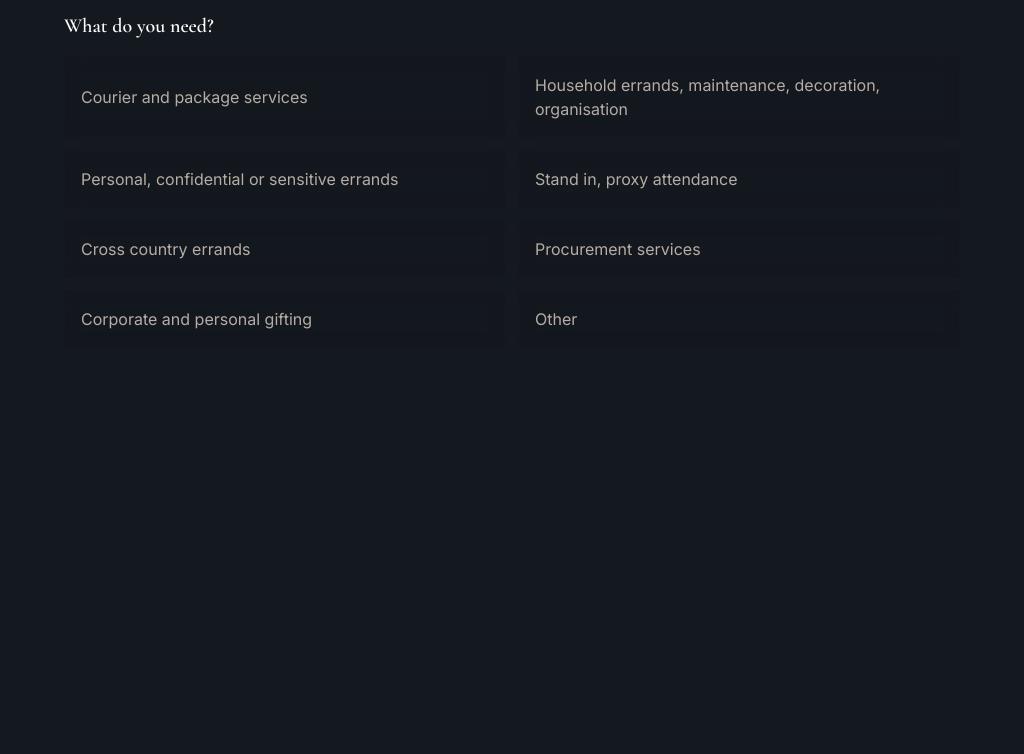
Test: BookingFlow › returns to service phase when Change is clicked
Click the button "Courier and package services".
click(285, 97)  # box [64,56,506,138]
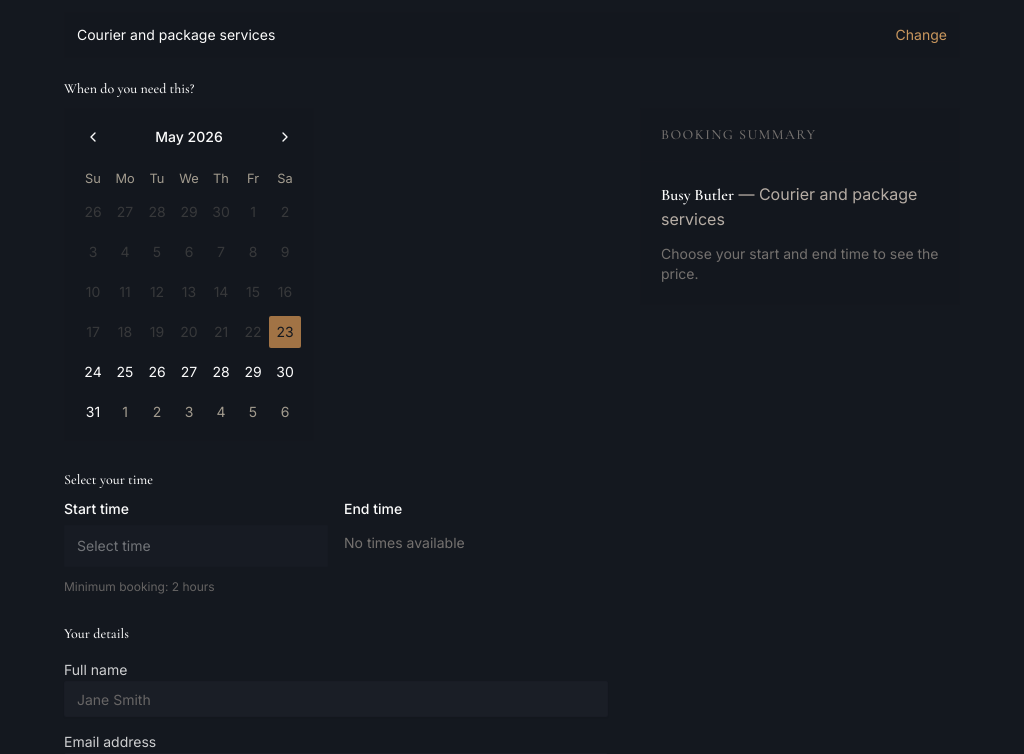
Click the button "Change".
click(921, 35)  # box [896,25,947,45]
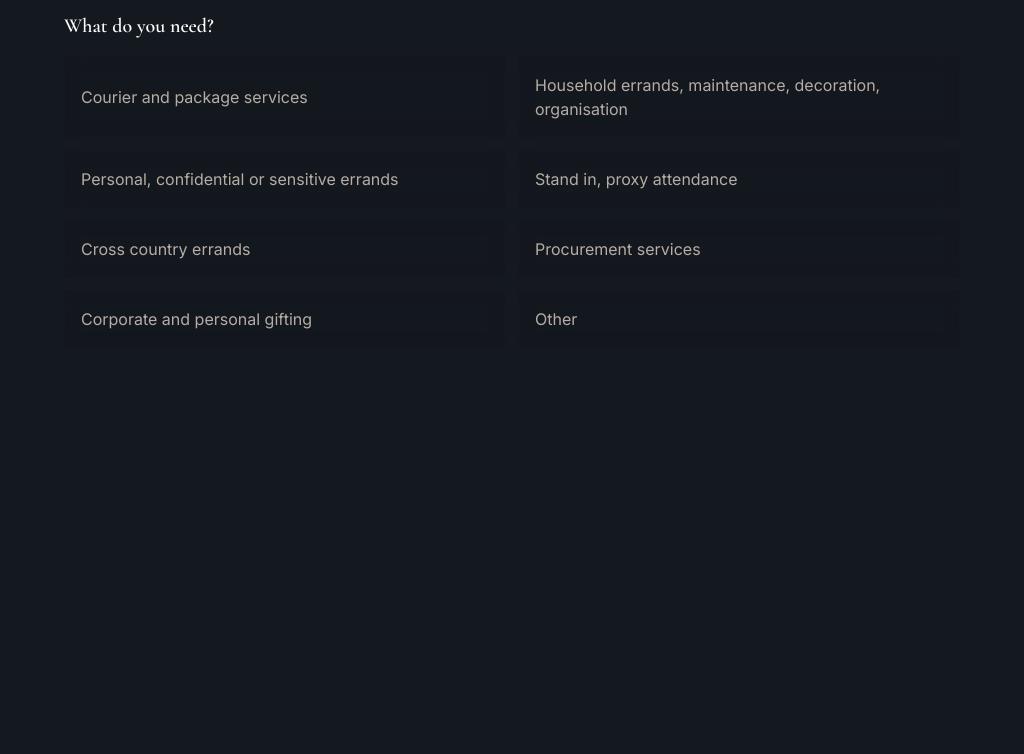
Now the heading "What do you need?" is shown, box [64,14,214,38]
